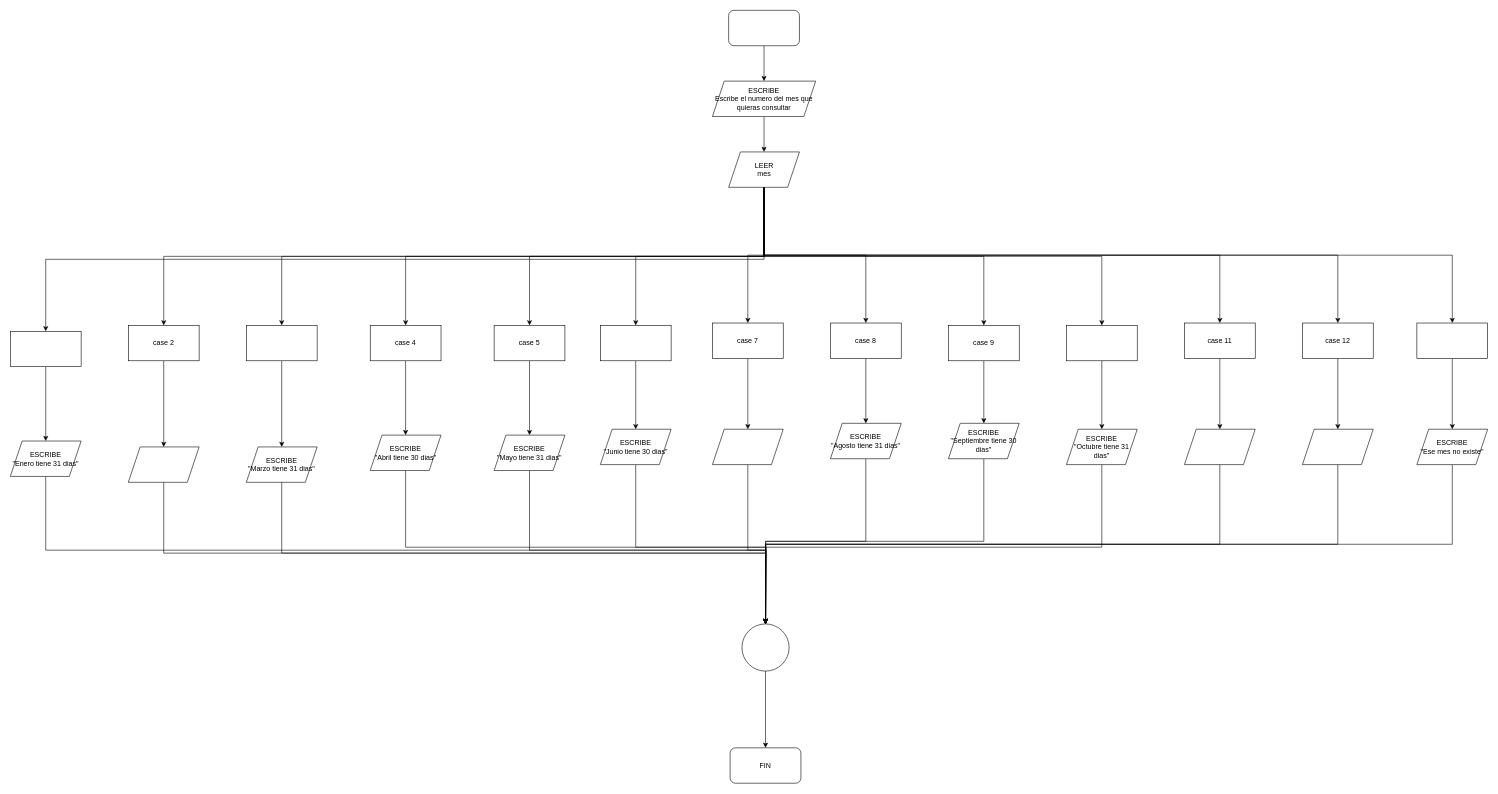
The diagram is 1498 pixels wide and 794 high, and some of its shapes have lost their labels. The centre of each missing label's shape, as x and y in pixels:
case 1: point 45,349
case 10: point 1101,343
case 3: point 281,343
case 6: point 635,343
default: point 1452,340
ESCRIBE "Diciembre tiene 31 dias": point 1337,447
ESCRIBE "Febrero tiene 28 dias": point 163,464
ESCRIBE "Julio tiene 31 dias": point 747,447
ESCRIBE "Noviembre tiene 30 dias": point 1219,447
INICIO: point 763,28
